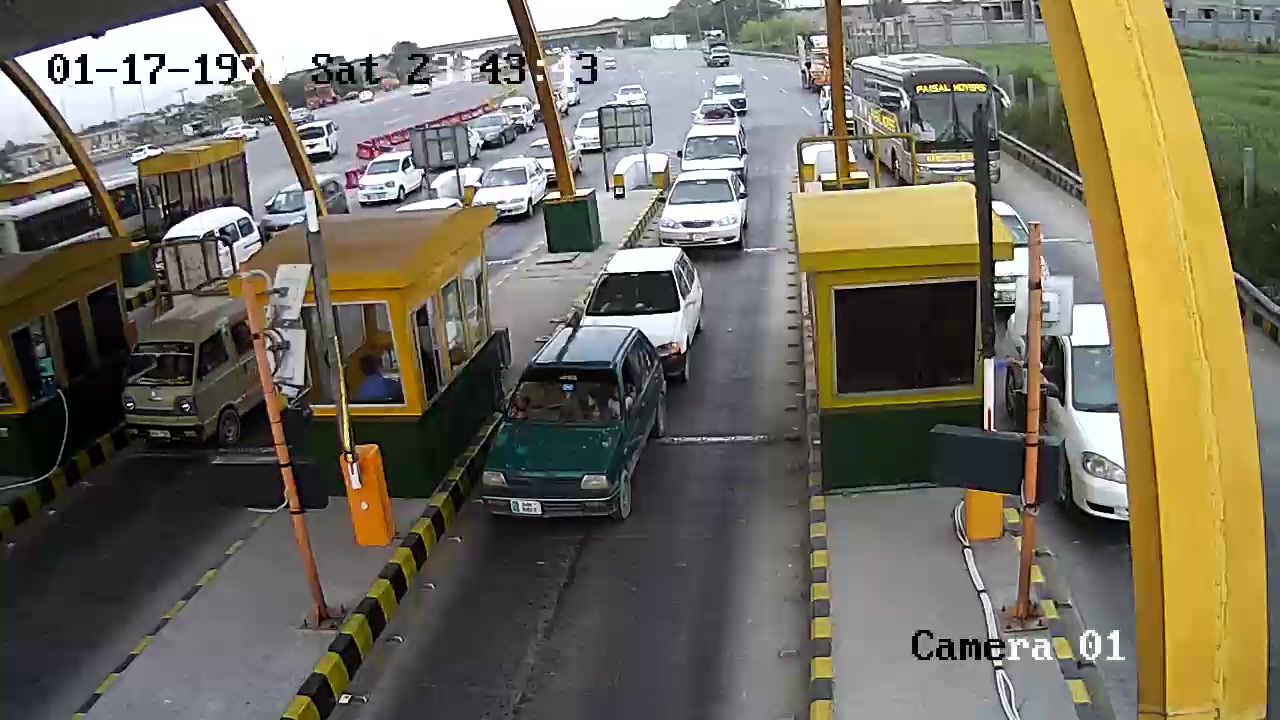F1: (482, 318, 687, 518)
